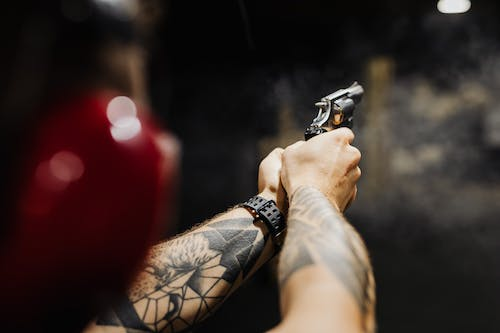gun: (302, 79, 365, 142)
